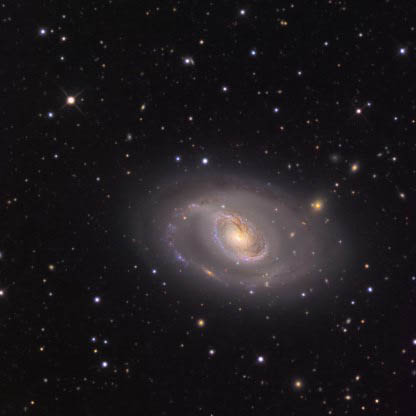Messier 96: (125, 167, 362, 315)
